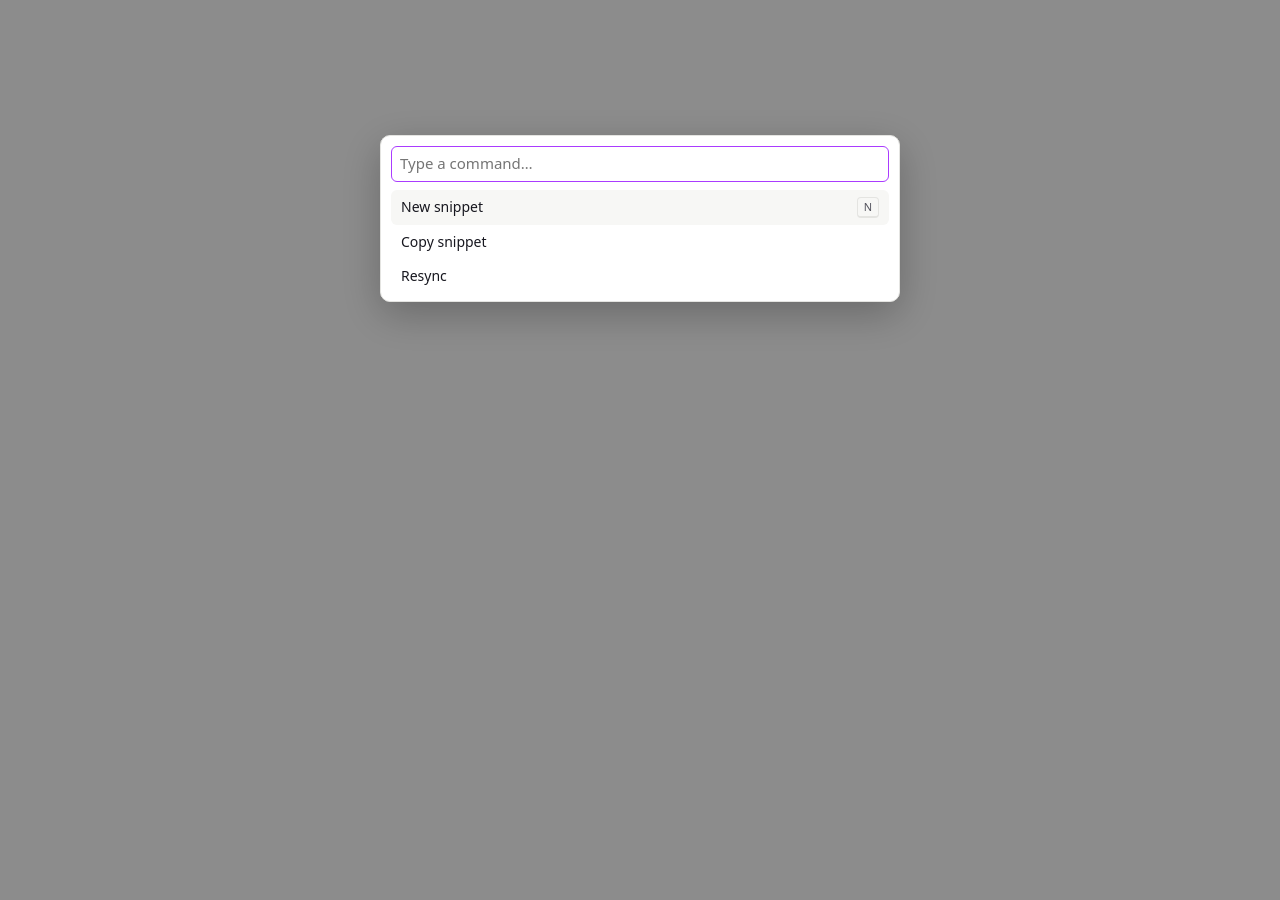
Scenario: CommandPalette › filters as the user types and highlights the first match
Type "sync" into the dropdown labelled "command".
click(640, 164); type("sync")  # box top-left (391, 146), bottom-right (889, 182)
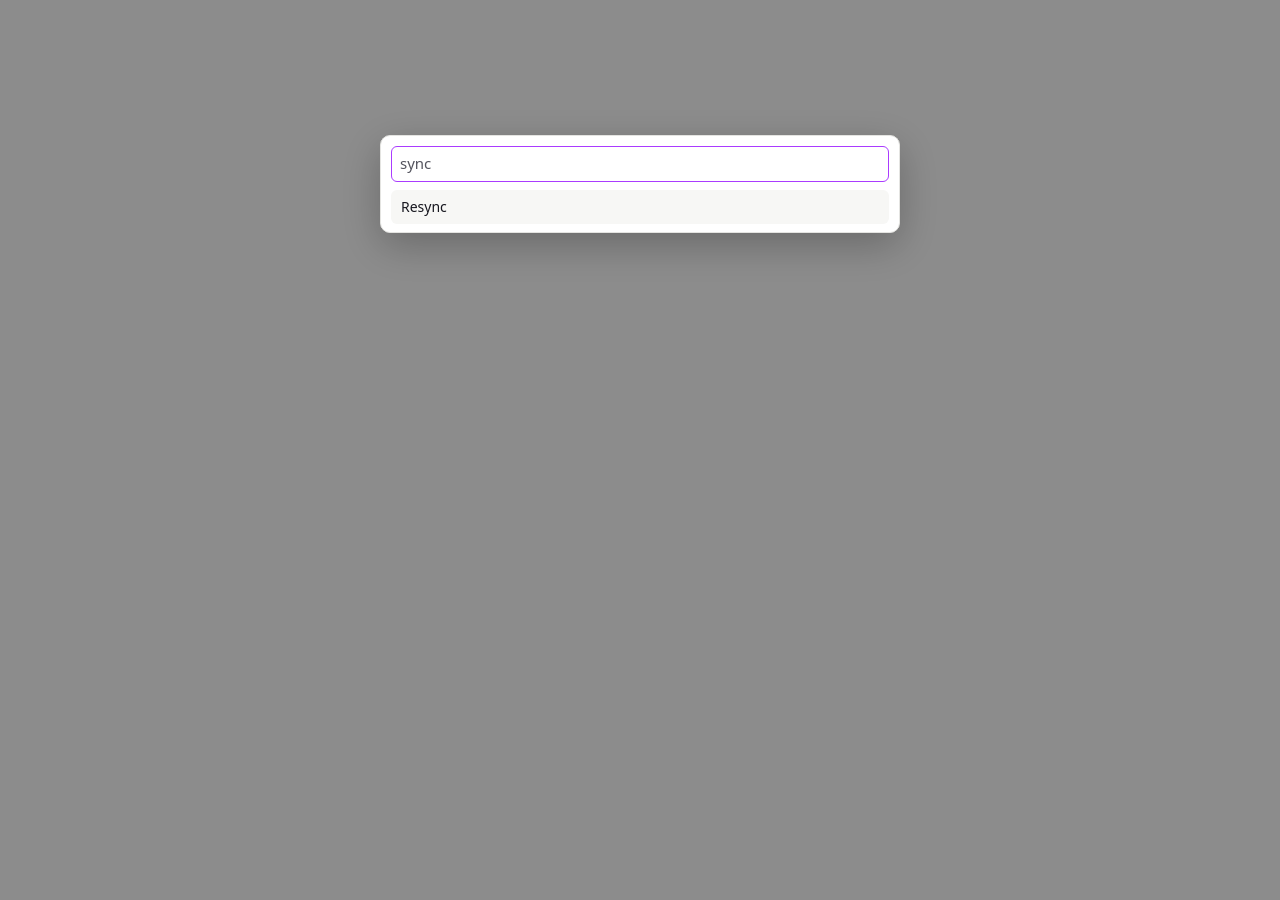
Expected: the text "Resync" is shown, top-left (401, 197), bottom-right (447, 216)
Expected: the number of options is 1, top-left (391, 190), bottom-right (889, 224)
